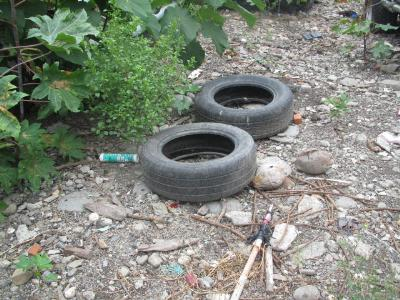tire: (139, 121, 259, 203), (193, 73, 295, 140)
